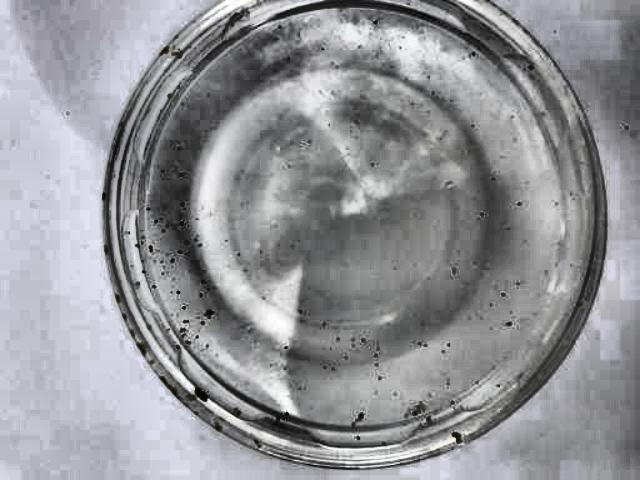Plastic: (83, 0, 613, 480)
